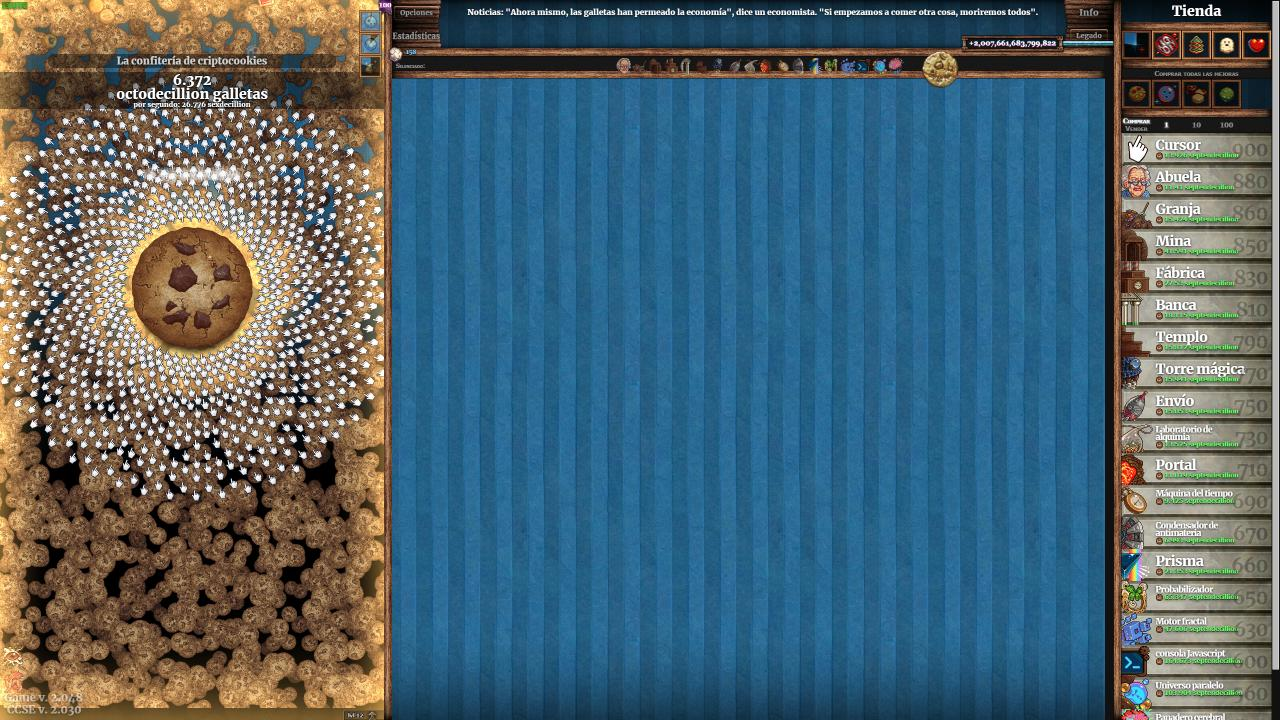GoldenCookie: (922, 51, 960, 89)
